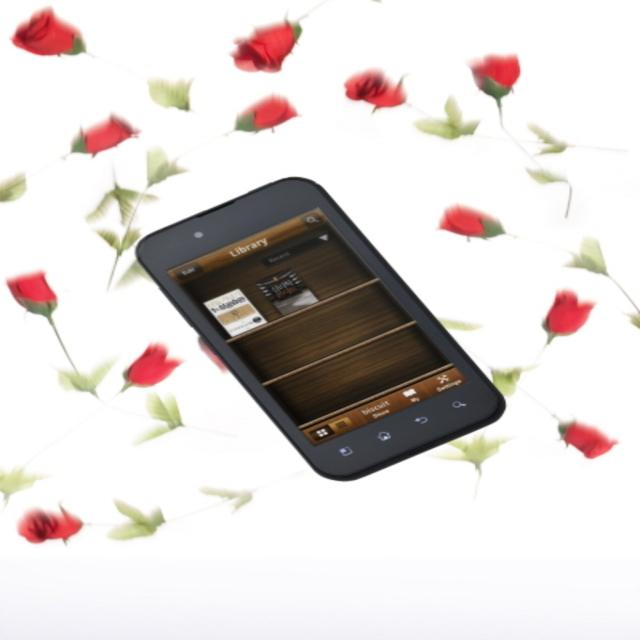Mobile-phone: (126, 177, 514, 491)
